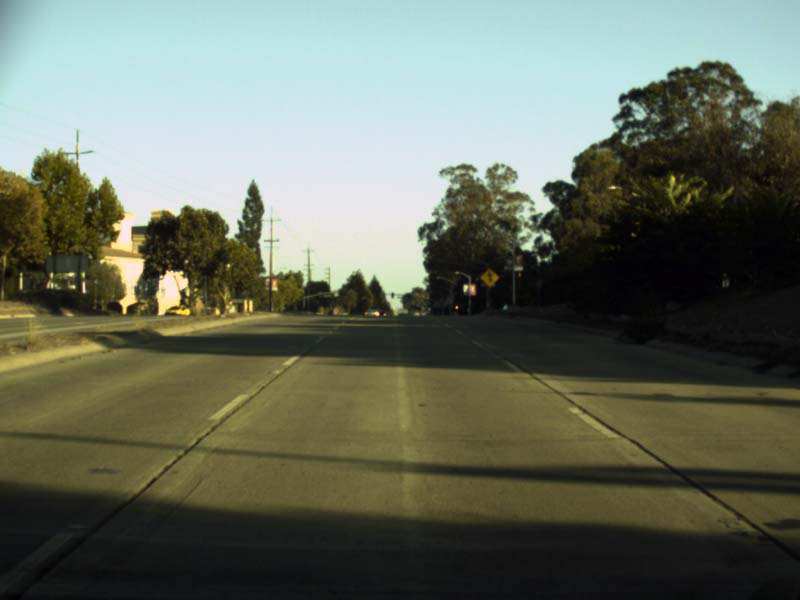Red: (453, 303, 459, 310)
